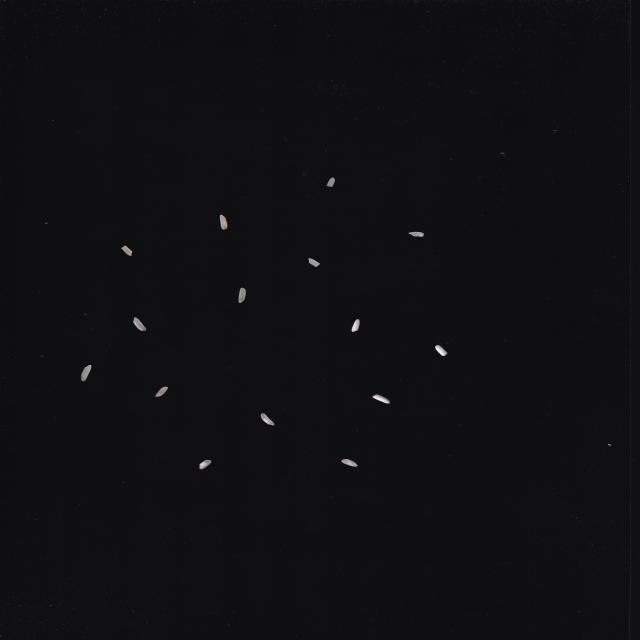Chalky: (260, 413, 275, 426), (341, 458, 358, 468), (198, 459, 212, 470)
Not: (80, 364, 92, 382), (132, 317, 146, 331), (372, 394, 391, 404), (154, 386, 168, 397), (219, 214, 228, 230), (435, 345, 448, 356), (121, 245, 133, 256), (351, 319, 361, 332), (238, 288, 246, 304), (308, 258, 320, 268), (326, 178, 335, 188), (408, 232, 425, 237)
